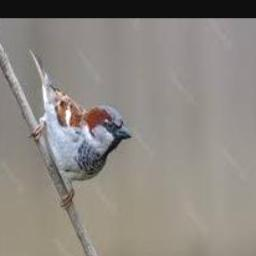Sparrow: (29, 49, 132, 209)
